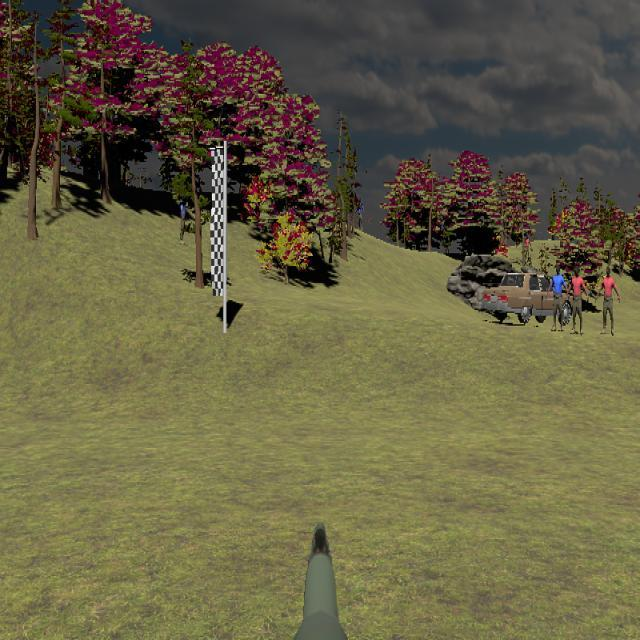Human: (596, 267, 620, 334), (567, 266, 589, 335), (548, 265, 570, 331)
car: (479, 272, 571, 324)
